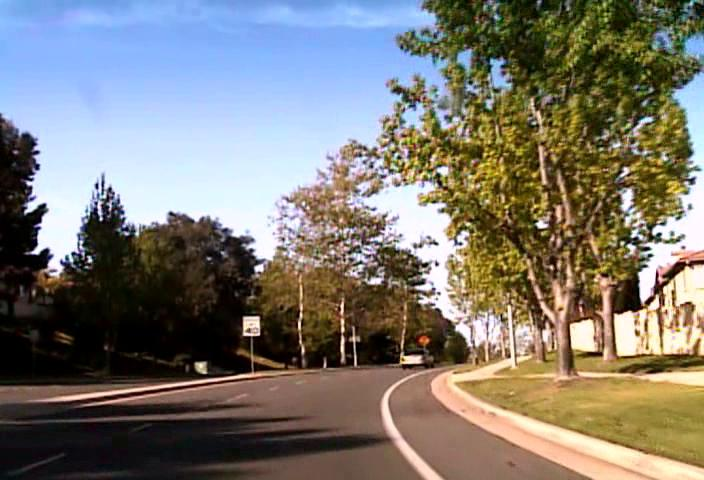speedLimit40: (242, 315, 261, 336)
